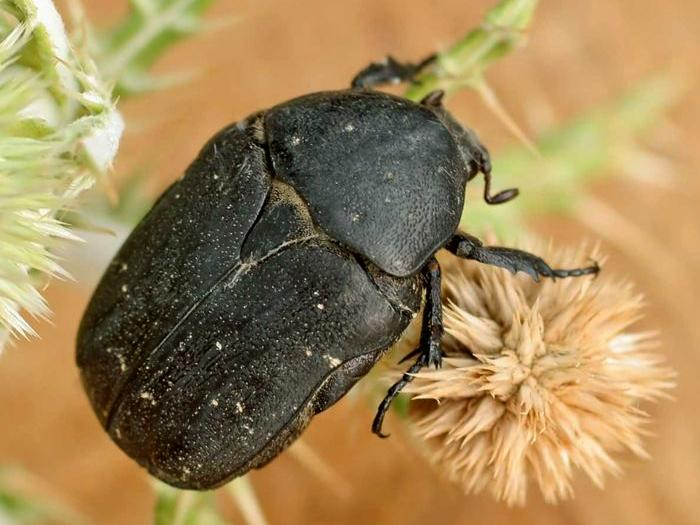Protaetia_morio_morio: (71, 46, 611, 497)
